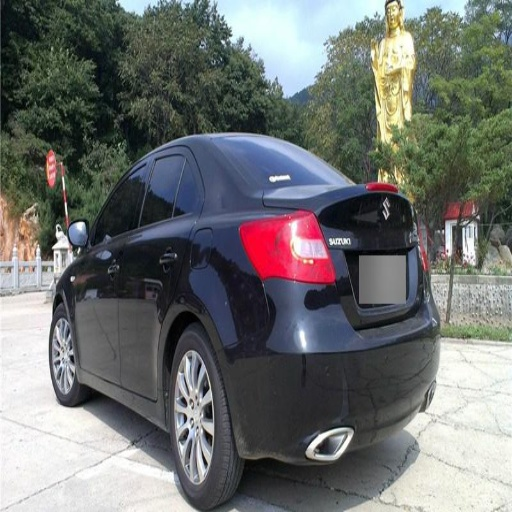back_bumper: (218, 281, 440, 456)
back_glass: (212, 138, 343, 190)
back_left_door: (124, 145, 204, 387)
tailgate: (281, 186, 423, 324)
